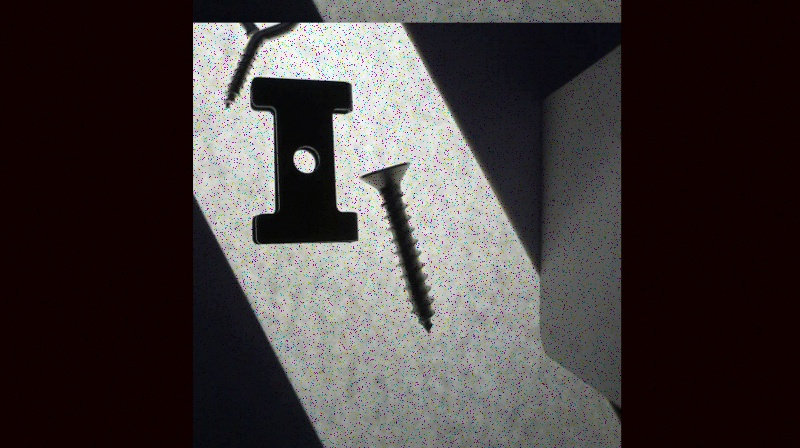O001: (222, 0, 304, 109)
O002: (248, 75, 358, 246)
S001: (358, 159, 435, 332)
